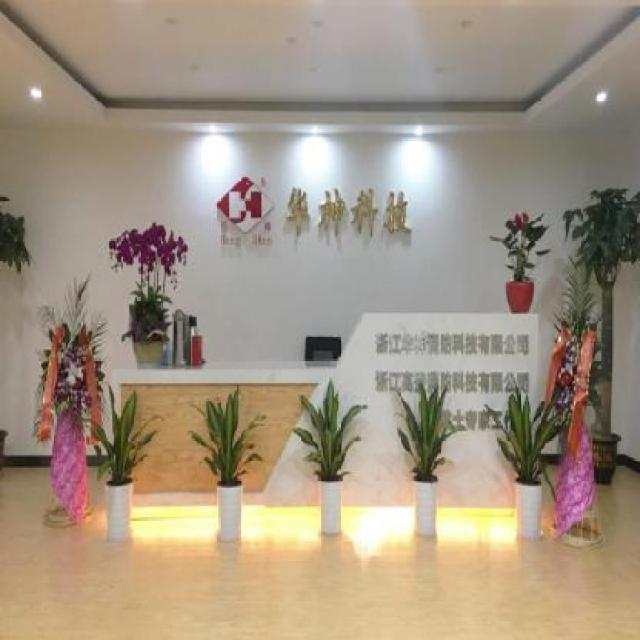frontdesk: (98, 295, 550, 553)
